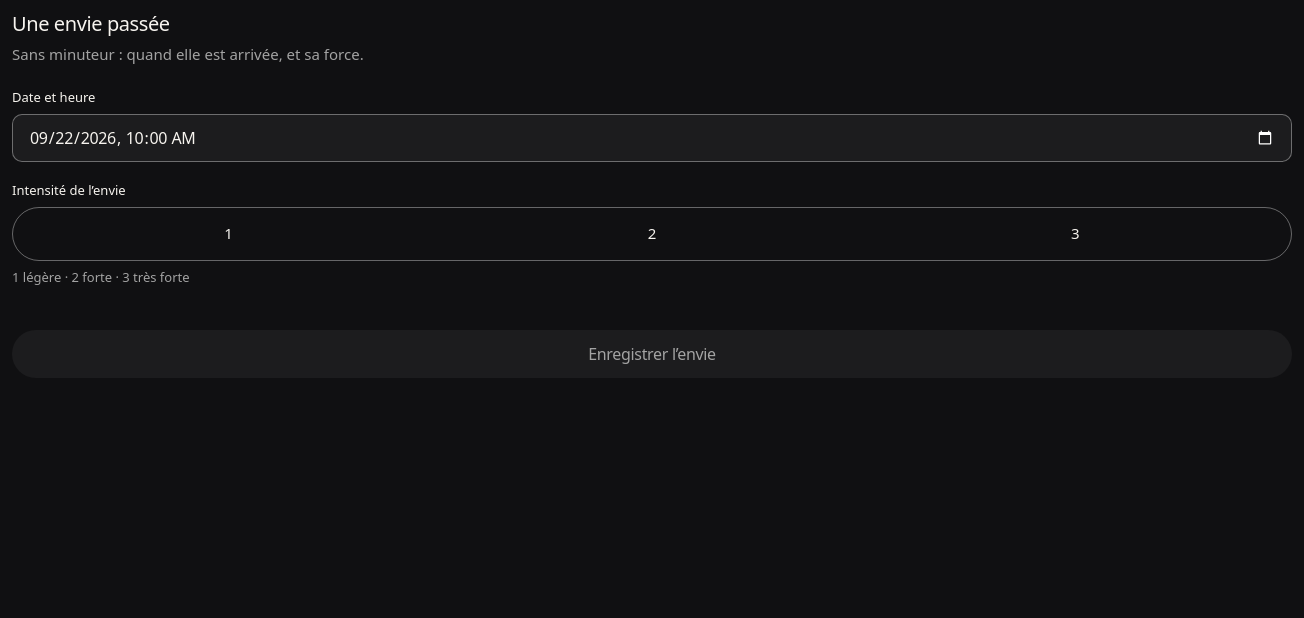
Test: refuses a craving in the future and says so
This screenshot has width=1304, height=618.
Replace the text in the field labelled "Date et heure" with "2026-09-22T11:00" at (652, 138), box [12,114,1292,162]
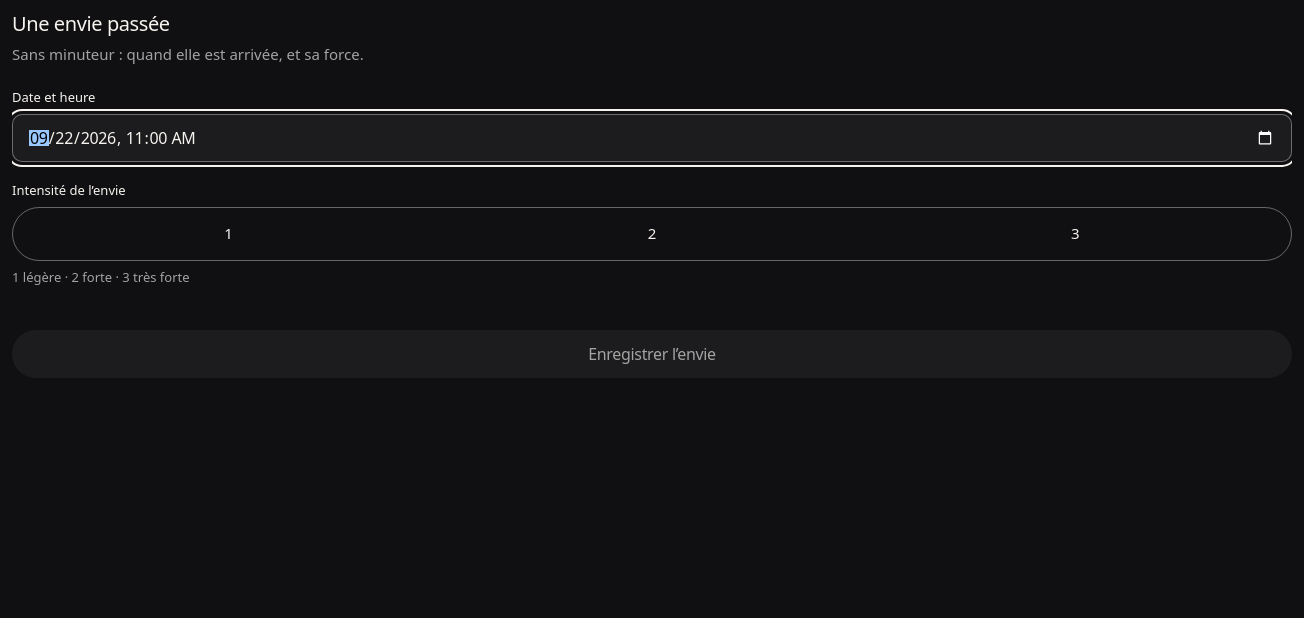
Click the button "2".
click(652, 234)  # box [440,212,864,256]
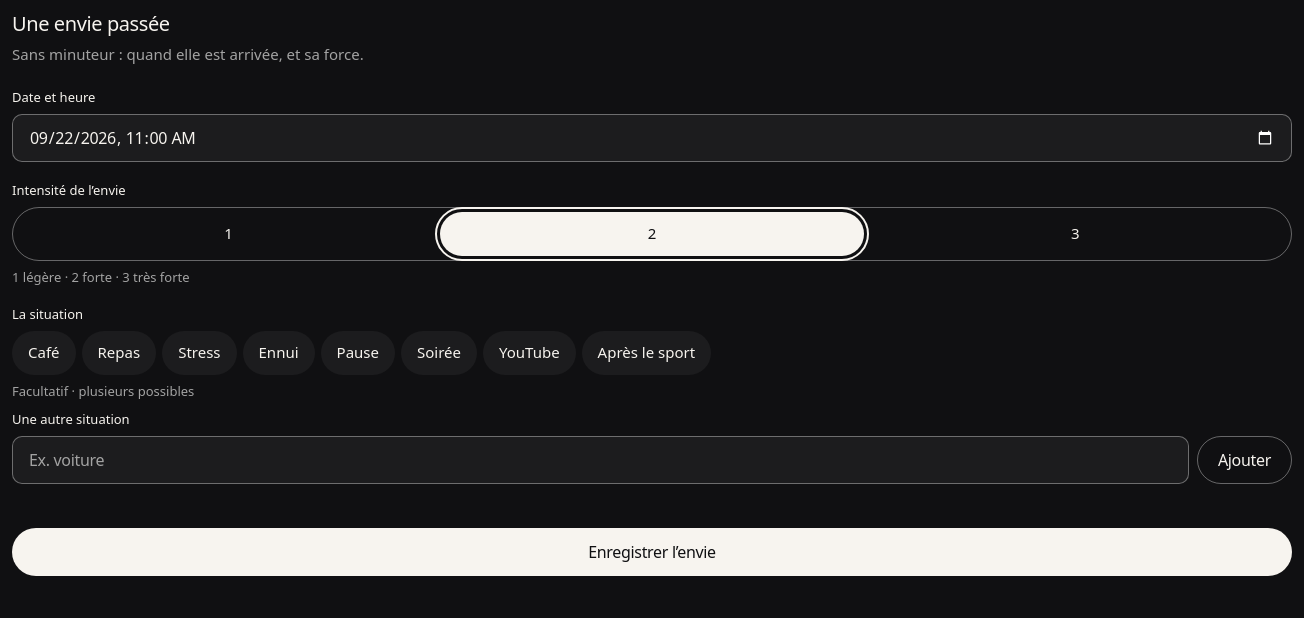
Click the button "Enregistrer l’envie".
click(652, 552)  # box [12,528,1292,576]
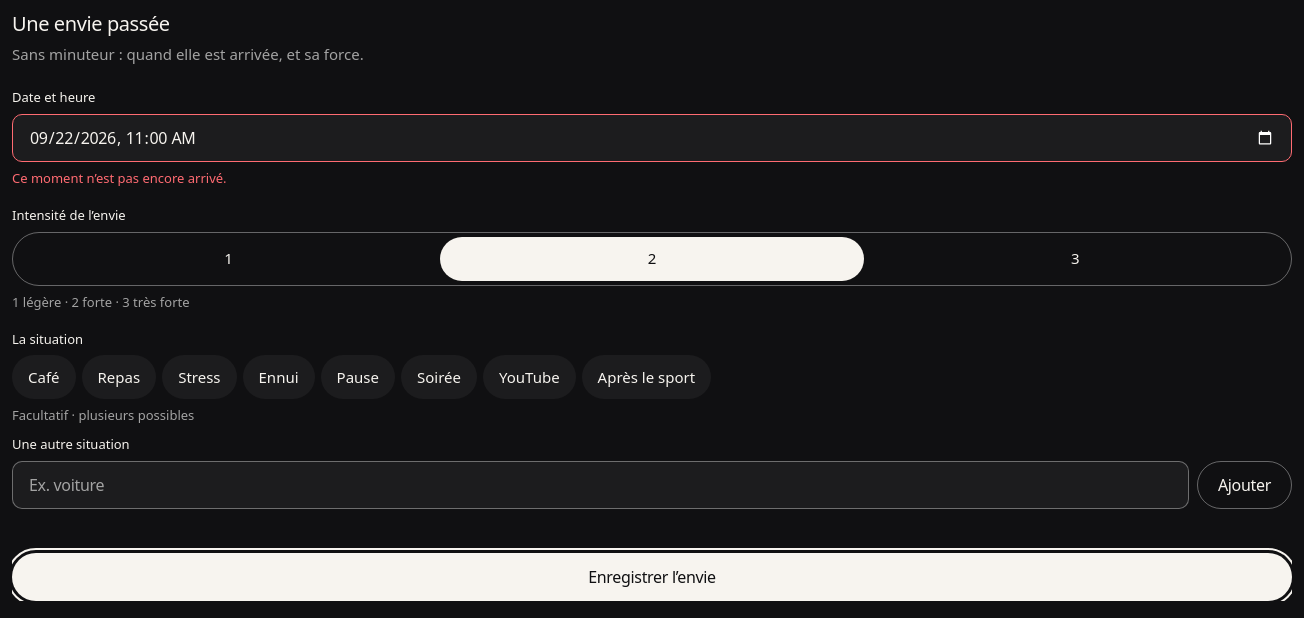
Expected: the message reads "Ce moment n’est pas encore arrivé.", [12,169,227,187]
